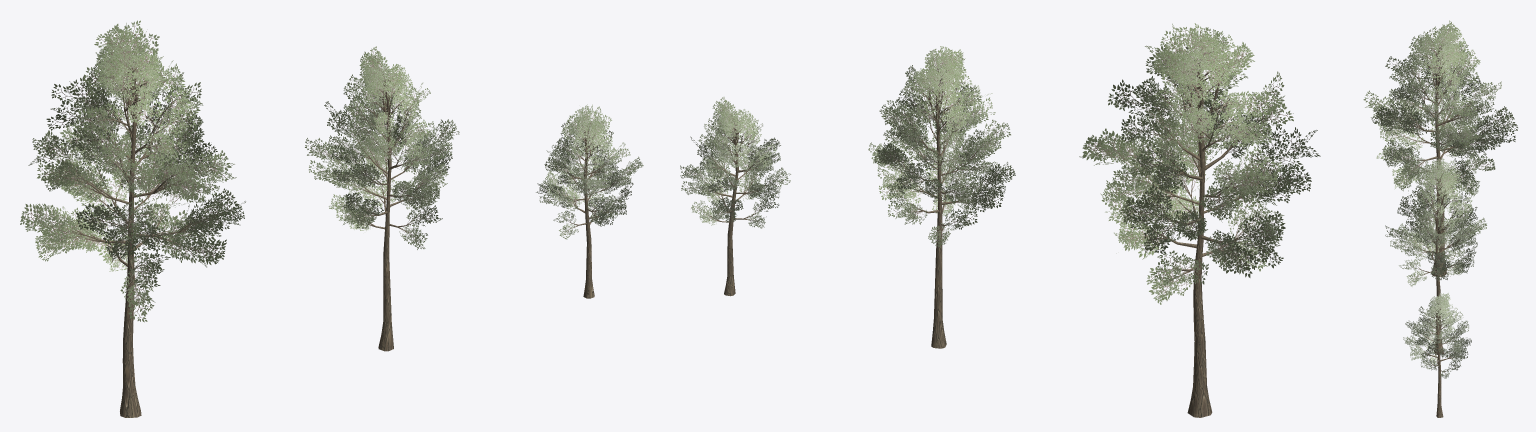
File: V2_Thin_Trees_1A1.fbx
3 views of the same model, side by side, from view 1: azimuth 30°, elevation 25°; view 2: azimuth 150°, elevation 25°; view 3: azimuth 270°, elevation 25° (orthographic). The views are drawn at different scales.
Visible parts, largest first — view 1: Thin_Tree_1A3, Thin_Tree_1A2, Thin_Tree_1A1; view 2: Thin_Tree_1A3, Thin_Tree_1A2, Thin_Tree_1A1; view 3: Thin_Tree_1A3, Thin_Tree_1A2, Thin_Tree_1A1.
Boxes of the visible parts, x1,y1,x2,y2 form: Thin_Tree_1A3: (20,20,245,417); Thin_Tree_1A2: (305,46,459,351); Thin_Tree_1A1: (536,104,643,298); Thin_Tree_1A3: (1079,23,1320,417); Thin_Tree_1A2: (868,46,1015,348); Thin_Tree_1A1: (680,97,790,296); Thin_Tree_1A3: (1363,20,1517,276); Thin_Tree_1A2: (1385,157,1486,354); Thin_Tree_1A1: (1403,293,1471,417).
Size of what is drawn, in the model's own units: 2628 by 1630 by 948.
